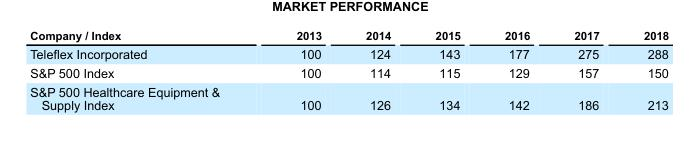table: (29, 29, 668, 111)
table column: (29, 29, 257, 111), (257, 29, 343, 111), (481, 29, 551, 111), (343, 29, 412, 111), (412, 29, 481, 111), (551, 29, 620, 111), (620, 29, 668, 111)
table column header: (29, 29, 668, 44)
table row: (29, 82, 668, 111), (29, 44, 668, 63), (29, 63, 668, 82), (29, 29, 668, 44)
